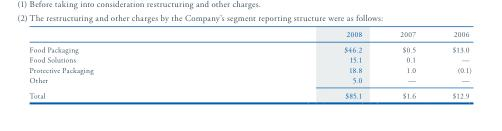table: (28, 29, 471, 100)
table column: (28, 29, 217, 100), (217, 29, 380, 100), (380, 29, 433, 100), (433, 29, 471, 100)
table column header: (28, 29, 471, 41)
table row: (28, 41, 471, 54), (28, 74, 471, 87), (28, 87, 471, 100), (28, 29, 471, 41), (28, 54, 471, 64), (28, 64, 471, 74)
